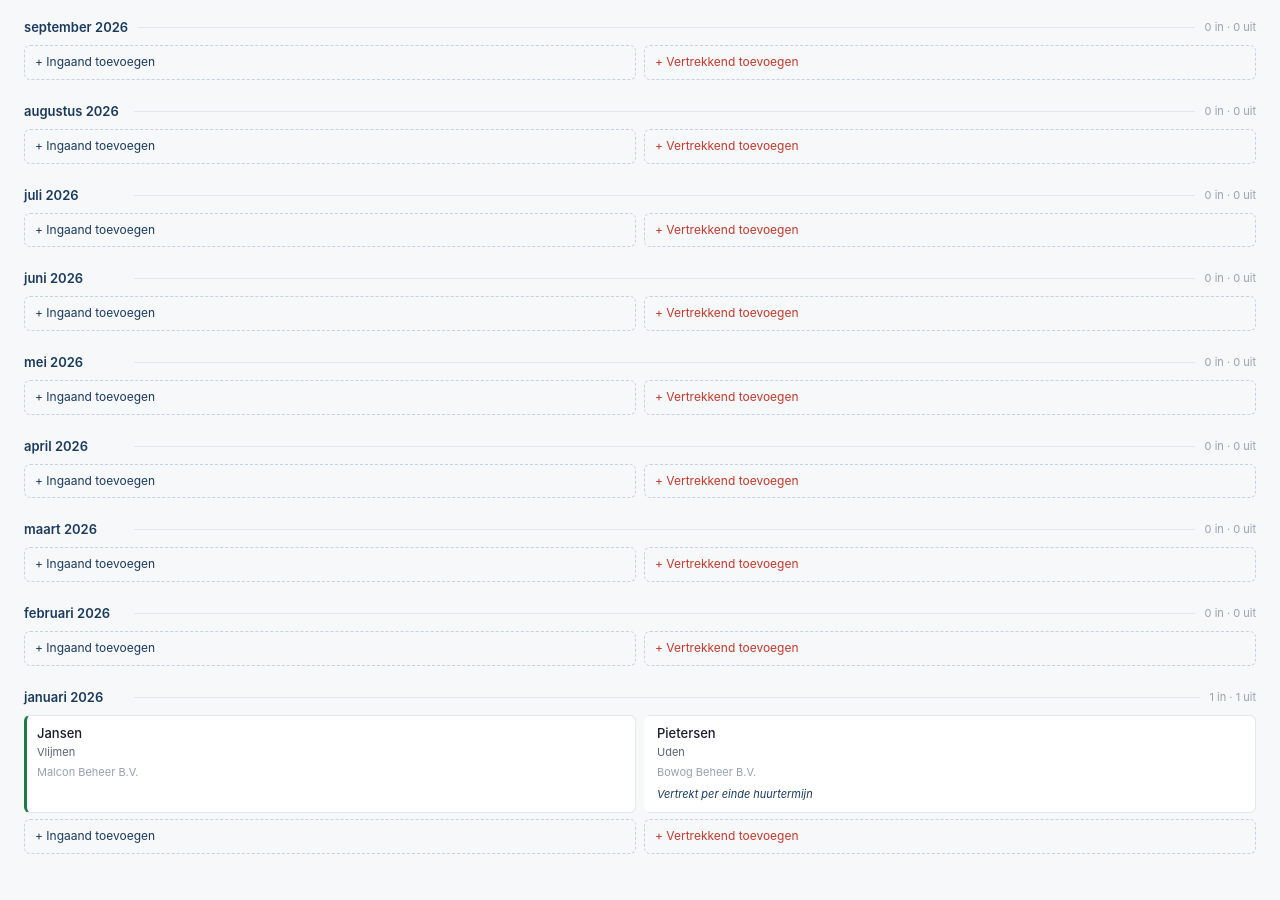
Scenario: Huurdersmutaties › kan een mutatie aanmaken in een maand die nog helemaal leeg is
(page scrolled)
Step 1. Click the 7th button "+ Vertrekkend toevoegen" → (727, 564), box [644,547,1256,582]
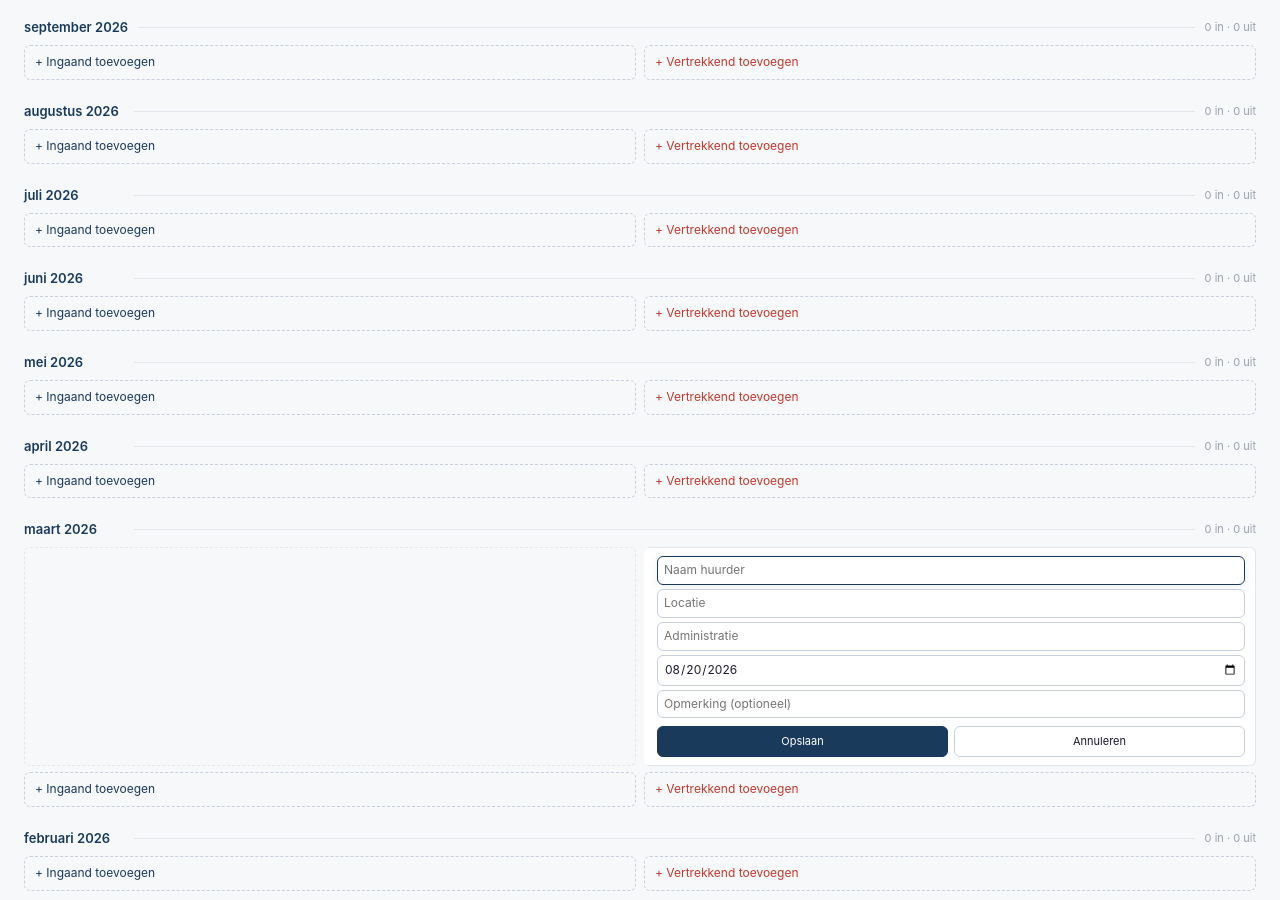
Step 2. Type "Eerste in maart" into the field labelled "Naam huurder" → (951, 571), box [657,556,1245,585]
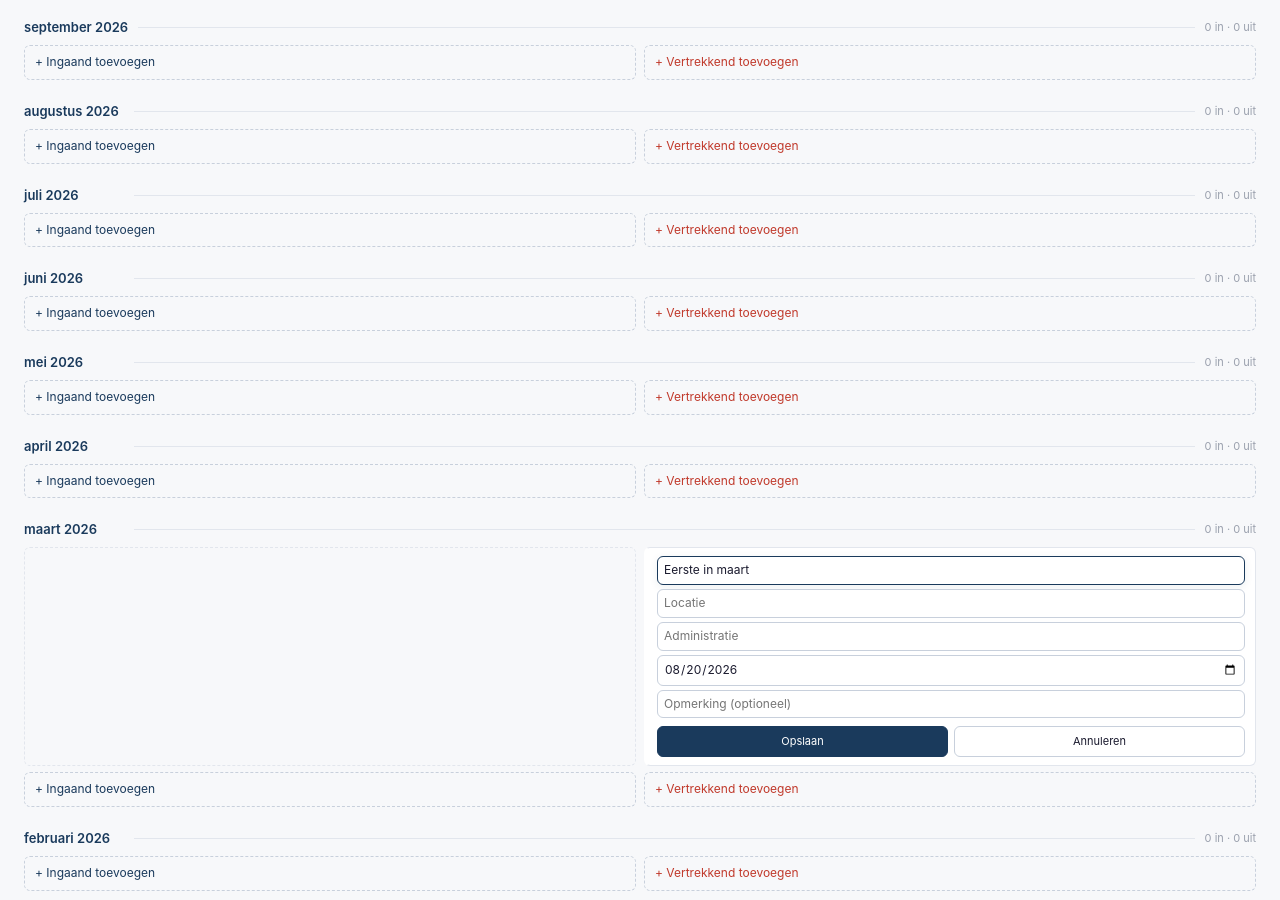
Step 3. Click the button "Opslaan" → (802, 742), box [657,726,948,757]
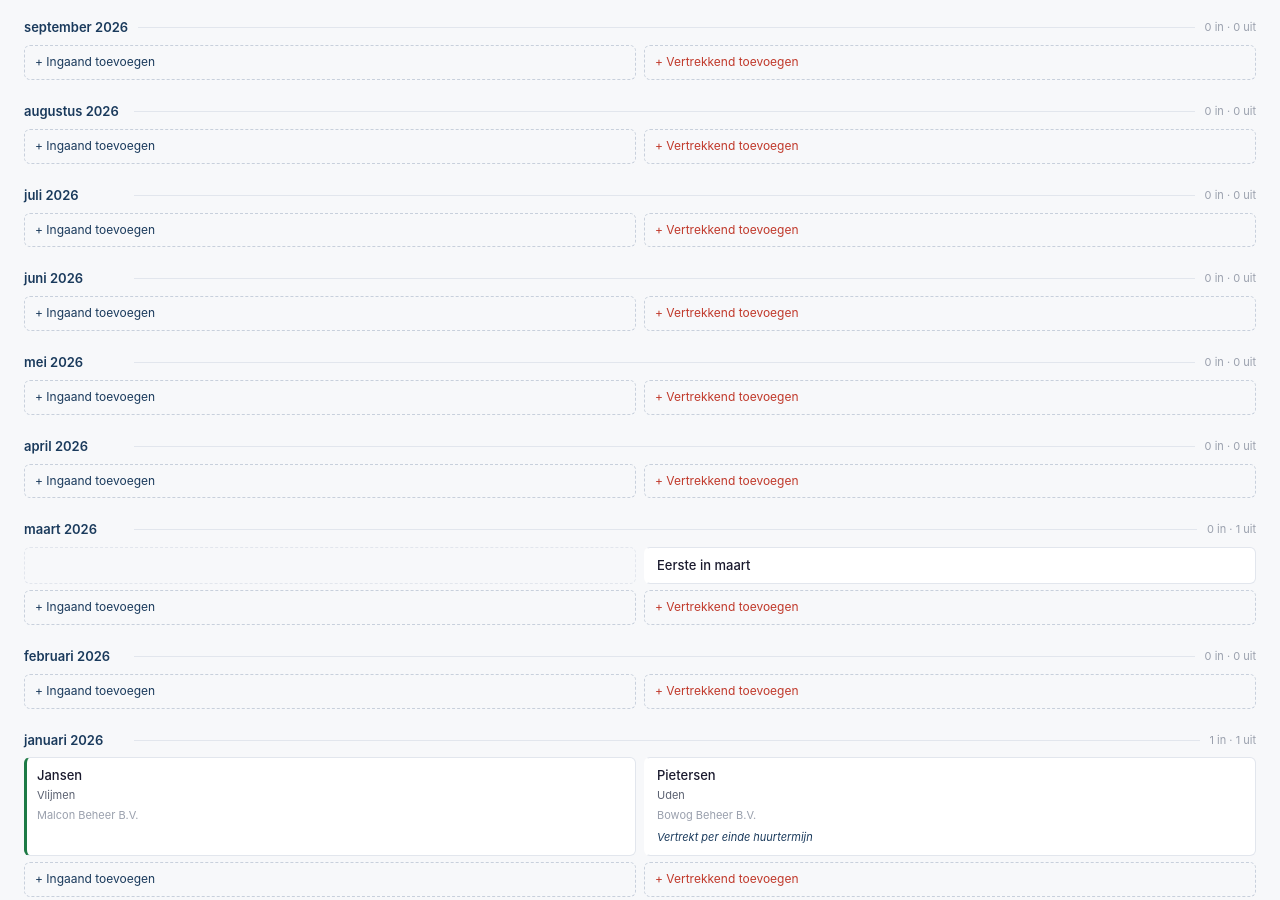
Now the text "Eerste in maart" is shown, box [657,556,750,575]
